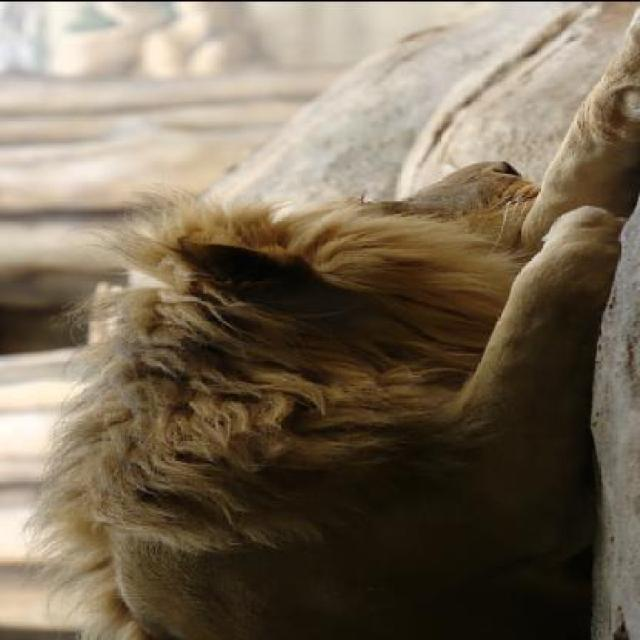Lion: (27, 6, 638, 637)
